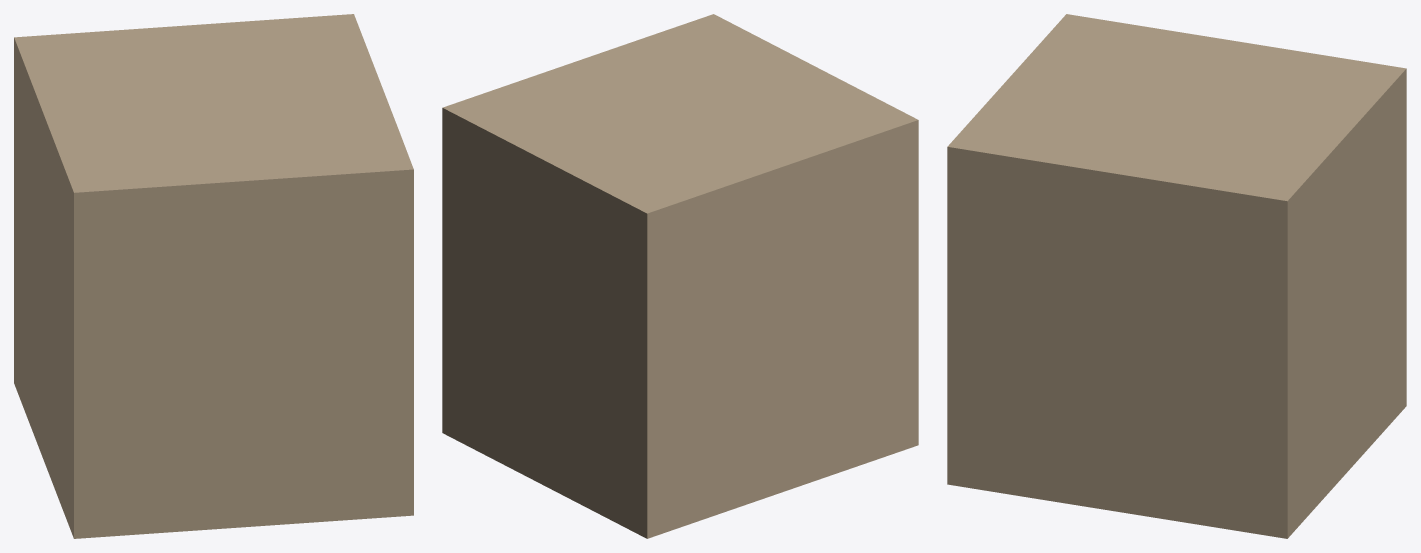
File: bld_101353740.dae
3 views of the same model, side by side, from view 1: azimuth 30°, elevation 25°; view 2: azimuth 150°, elevation 25°; view 3: azimuth 270°, elevation 25° (orthographic). The views are drawn at different scales.
Visible parts, largest first — view 1: bld_101353740; view 2: bld_101353740; view 3: bld_101353740.
Boxes of the visible parts, left/top/right/bottom form: bld_101353740: left=14, top=14, right=413, bottom=538; bld_101353740: left=442, top=14, right=918, bottom=538; bld_101353740: left=947, top=14, right=1406, bottom=538.
Bounding box in the file's own units: 9.51 × 9.86 × 8.
